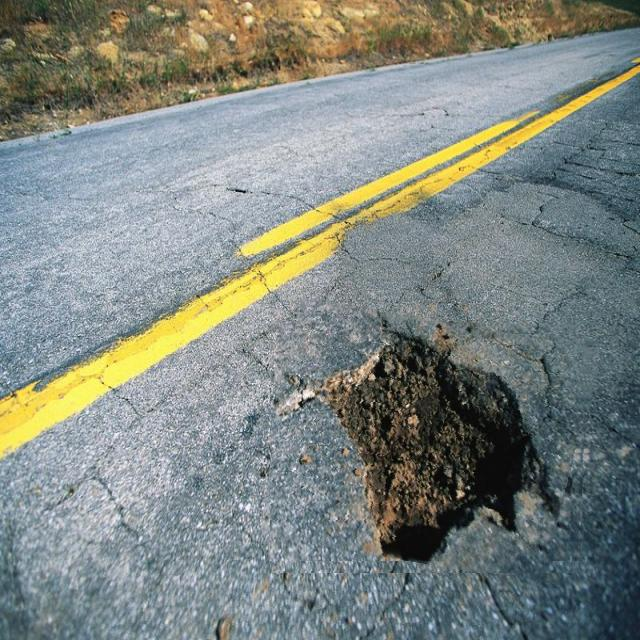Pothole: (270, 309, 592, 573)
